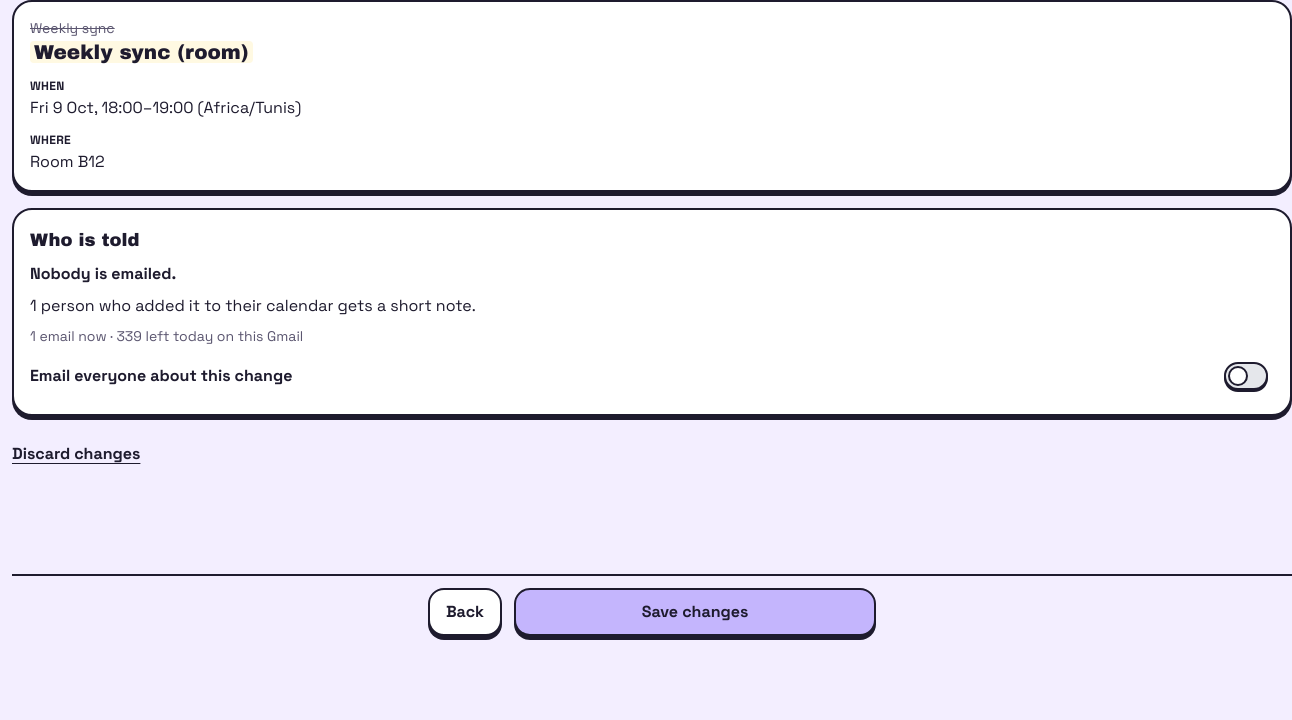
Test case: ChangesStep › offers to email everyone about a text change, and previews it
Check: the text "1 person who added it to their calendar gets a short note." is shown, box [30, 295, 476, 316]
Click the switch named "Email everyone about this change" at (1246, 376), box [1218, 354, 1274, 398]
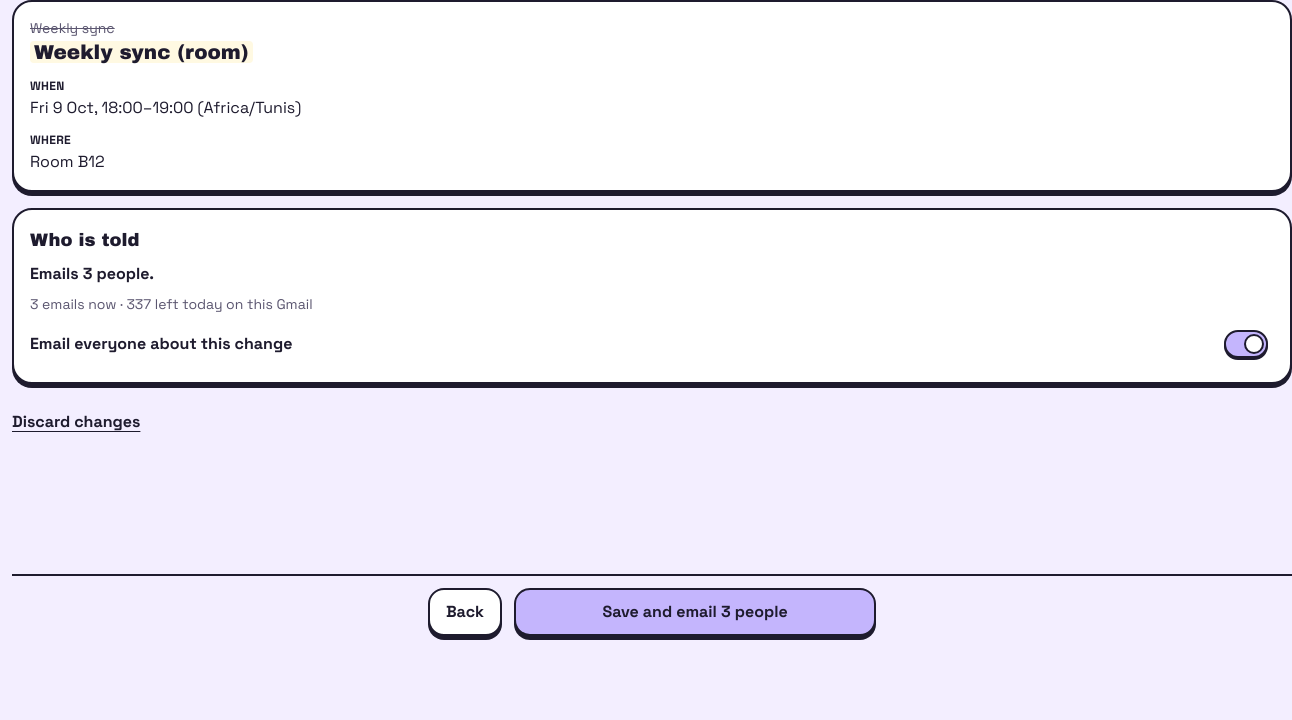
Check: the text "Emails 3 people." is shown, box [30, 263, 154, 284]
